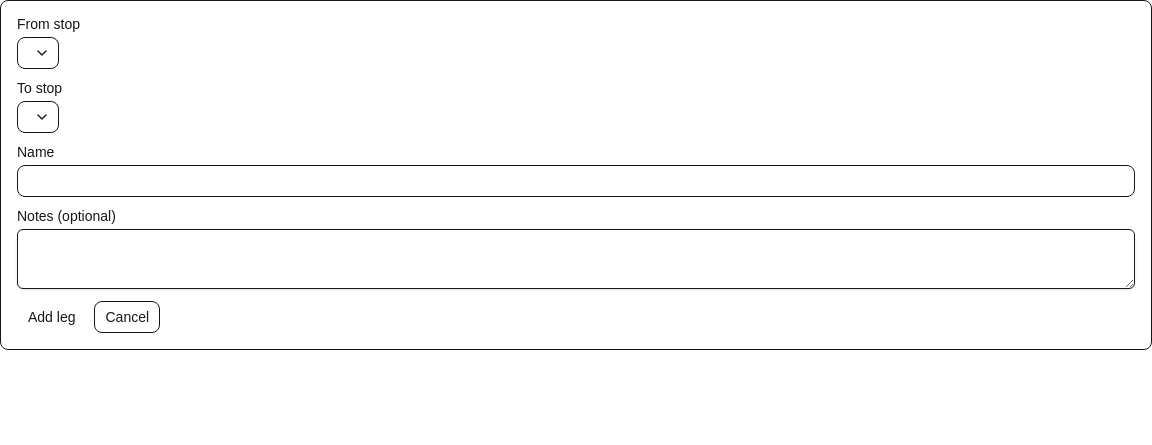
it: LegFormView — fromStop validation › shows error when submitted without selecting a fromStop
Click the button "Add leg": [52, 317] box [17,301,86,333]
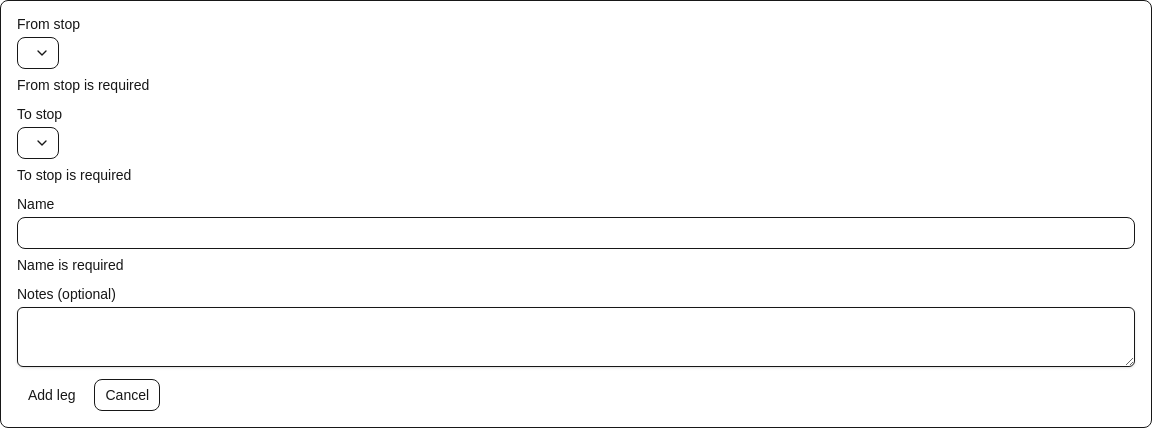
Expected: the text "From stop is required" is shown, [17,77,149,93]
